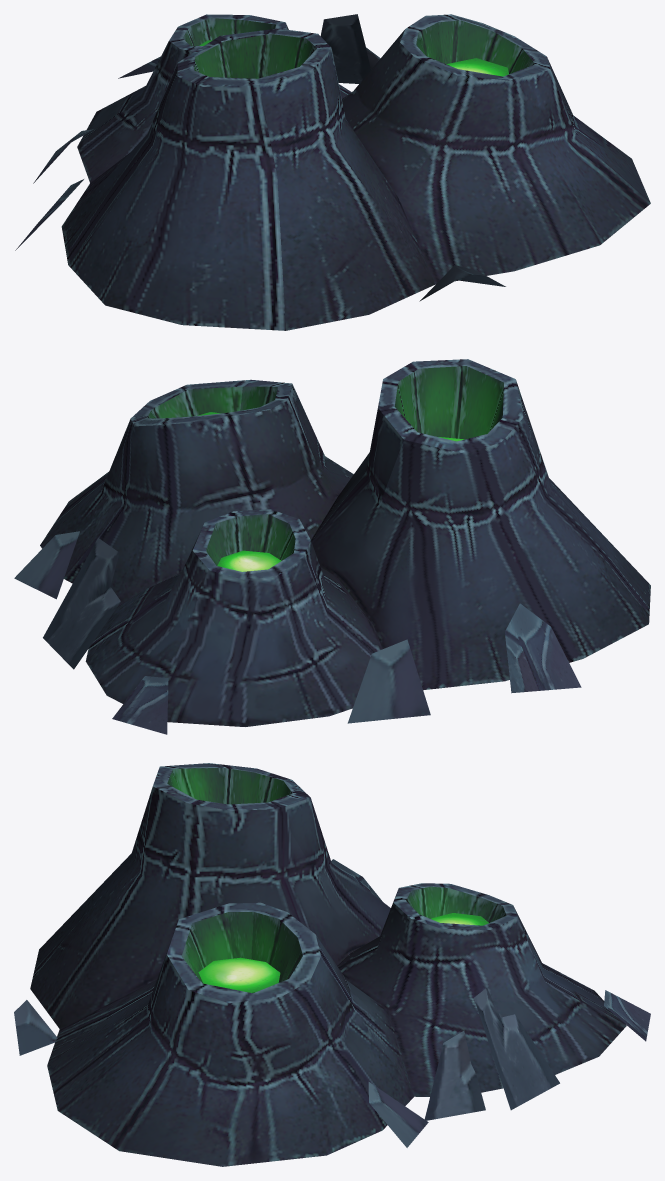
The model's file is jz_trqk.FBX.
The picture shows the model from 3 angles, top to bottom: view 1: azimuth 30°, elevation 25°; view 2: azimuth 150°, elevation 25°; view 3: azimuth 270°, elevation 25°; orthographic projection. The views are drawn at different scales.
Parts seen in each view (by area): view 1: jz_trqk; view 2: jz_trqk; view 3: jz_trqk.
Boxes of the visible parts, bbox=[...] form: jz_trqk: bbox=[15, 14, 650, 330]; jz_trqk: bbox=[14, 359, 650, 734]; jz_trqk: bbox=[14, 763, 650, 1166].
Bounding box in the file's own units: 68.5 × 23.77 × 66.25.
